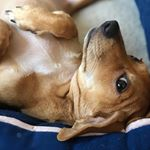puppy: (51, 16, 150, 147)
